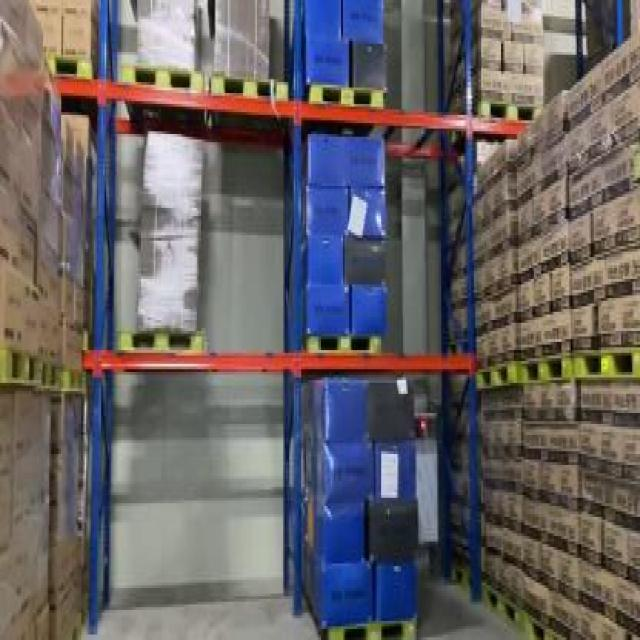box: (431, 47, 638, 638), (303, 0, 422, 635), (2, 0, 102, 629), (123, 123, 208, 364), (450, 3, 548, 153), (126, 3, 211, 93), (208, 3, 278, 104)
